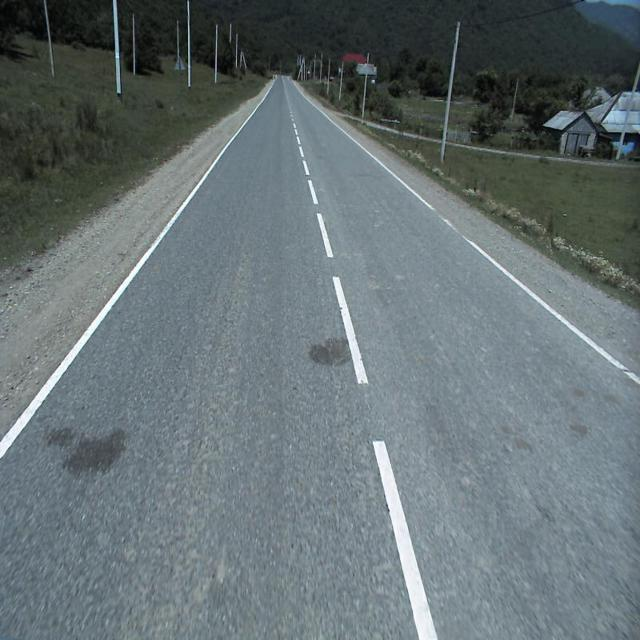road: (0, 76, 640, 639)
